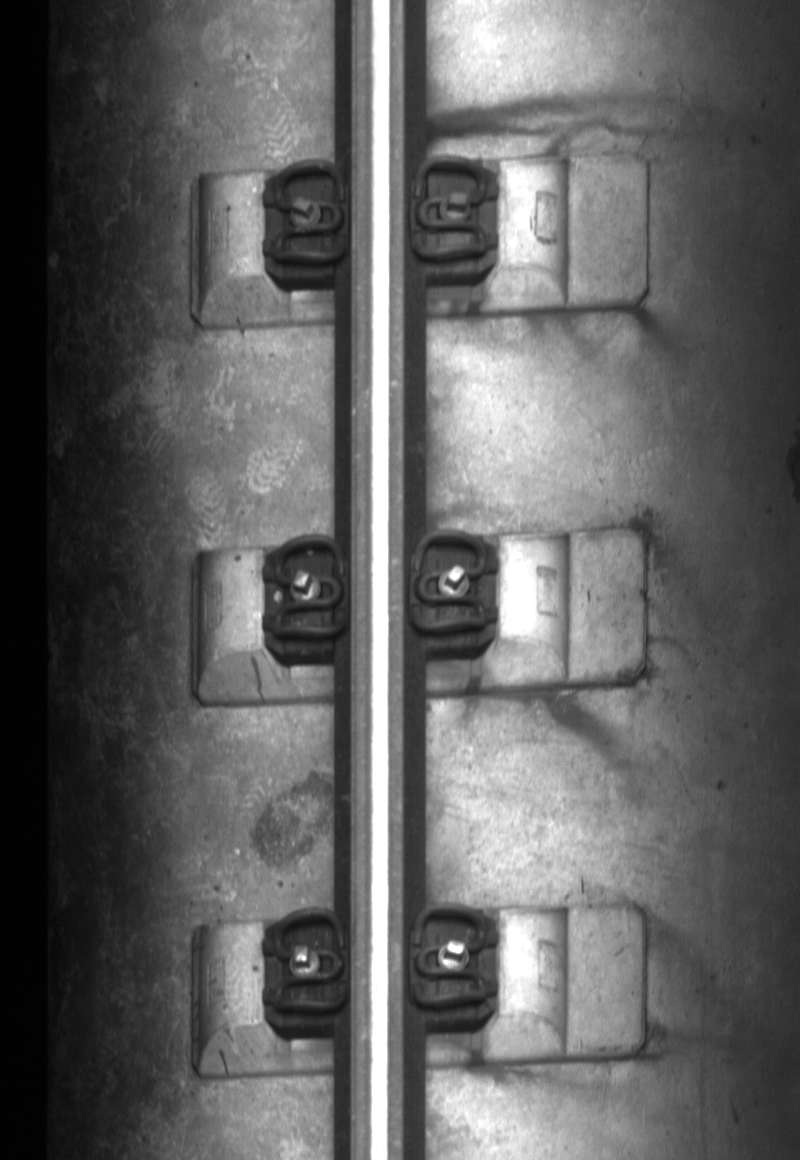l_faster: (266, 527, 350, 646), (265, 155, 351, 270), (266, 904, 350, 1018)
r_faster: (407, 523, 492, 644), (409, 147, 491, 271), (408, 898, 491, 1017)
